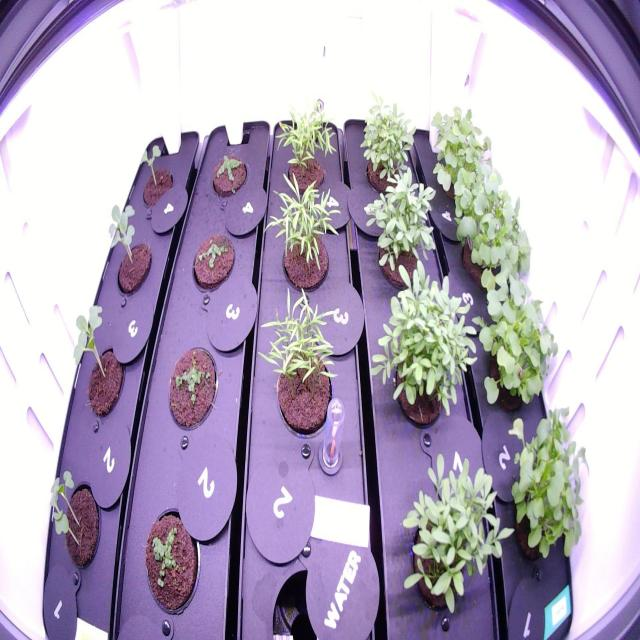germination: (254, 282, 346, 450), (260, 168, 344, 305), (137, 500, 207, 624), (69, 298, 130, 425), (266, 98, 341, 200), (45, 454, 106, 576), (160, 332, 222, 440), (105, 197, 156, 298), (186, 222, 240, 296), (136, 135, 178, 219), (206, 144, 250, 202)
